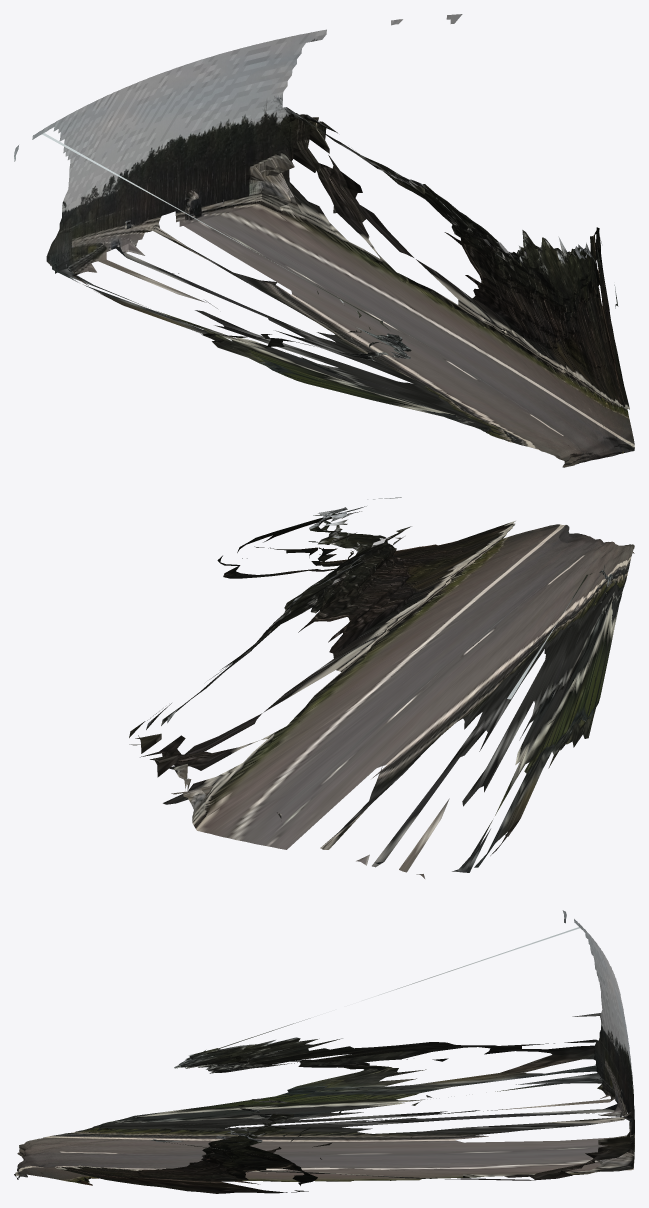
The picture shows the model from 3 angles, top to bottom: view 1: azimuth 30°, elevation 25°; view 2: azimuth 150°, elevation 25°; view 3: azimuth 270°, elevation 25°; orthographic projection. The views are drawn at different scales.
Visible parts, largest first — view 1: defaultobject; view 2: defaultobject; view 3: defaultobject.
Part boxes in pixels (x1=…): defaultobject: x1=14, y1=14, x2=634, y2=467; defaultobject: x1=129, y1=497, x2=634, y2=878; defaultobject: x1=14, y1=910, x2=634, y2=1193.
Size of the model in its own units: 34.13 by 12.35 by 44.44.
Materials: 1 (1 with a texture image).
